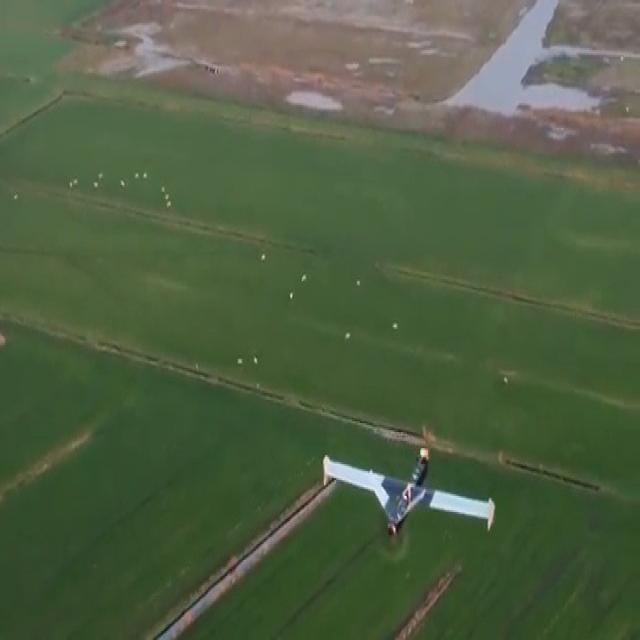drones: (320, 431, 498, 555)
